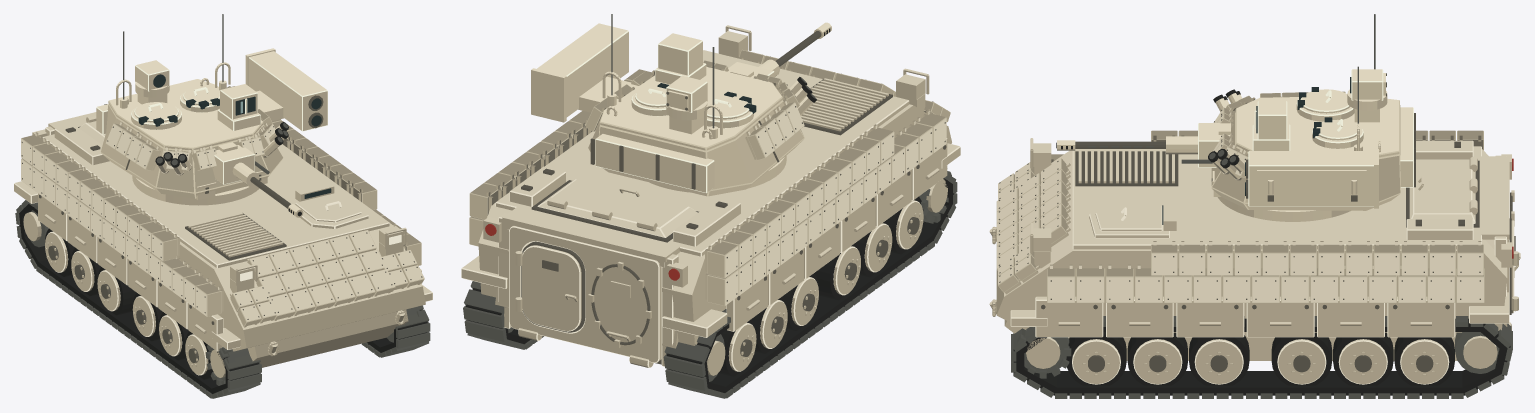
The model's file is m2a3_bradley_era.glb.
The picture shows the model from 3 angles, left to right: view 1: azimuth 30°, elevation 25°; view 2: azimuth 150°, elevation 25°; view 3: azimuth 270°, elevation 25°; orthographic projection. The views are drawn at different scales.
Parts seen in each view (by area): view 1: Deck rim, Main hull sloped glacis, Faceted turret armor, Turret roof, Twin TOW launcher, Lower armored tub, Continuous track -1, Driver hatch, Turret ring, Rear deck stowage box, Gun mantlet, Side skirt panel (+63 smaller); view 2: Deck rim, Ramp armor, Turret roof, Faceted turret armor, Personnel door, Rear roof hatch, Main hull sloped glacis, Twin TOW launcher, Continuous track -1, Turret rear basket, Rear roof closure, TOW rear cap (+61 smaller); view 3: Deck rim, Continuous track 1, Main hull sloped glacis, Turret roof, Rear roof hatch, TOW launcher side cover, Twin TOW launcher, Faceted turret armor, Rear roof closure, Engine grille recess, Side skirt panel.009, Side skirt panel.008 (+65 smaller).
Boxes of the visible parts, x1,y1,x2,y2 form: Deck rim: (42, 134, 389, 268); Main hull sloped glacis: (178, 223, 425, 351); Faceted turret armor: (101, 104, 283, 198); Turret roof: (108, 79, 263, 150); Twin TOW launcher: (248, 51, 327, 131); Lower armored tub: (247, 309, 408, 367); Continuous track -1: (19, 204, 259, 393); Driver hatch: (295, 193, 361, 222); Turret ring: (132, 175, 259, 205); Rear deck stowage box: (54, 124, 109, 165); Gun mantlet: (212, 145, 254, 184); Side skirt panel: (188, 303, 223, 351); Deck rim: (495, 50, 909, 256); Ramp armor: (509, 226, 661, 362); Turret roof: (599, 66, 782, 150); Faceted turret armor: (588, 100, 804, 196); Personnel door: (521, 245, 581, 331); Rear roof hatch: (537, 179, 697, 237); Main hull sloped glacis: (478, 104, 951, 345); Twin TOW launcher: (537, 23, 628, 117); Continuous track -1: (666, 178, 953, 392); Turret rear basket: (595, 134, 714, 193); Rear roof closure: (502, 206, 680, 262); TOW rear cap: (531, 68, 566, 122); Deck rim: (1072, 146, 1481, 249); Continuous track 1: (1013, 318, 1510, 395); Main hull sloped glacis: (996, 149, 1507, 332); Turret roof: (1235, 97, 1399, 157); Rear roof hatch: (1409, 159, 1475, 223); TOW launcher side cover: (1257, 170, 1366, 203); Twin TOW launcher: (1248, 151, 1373, 206); Faceted turret armor: (1211, 105, 1400, 210); Rear roof closure: (1474, 156, 1509, 239); Engine grille recess: (1075, 151, 1178, 186); Side skirt panel.009: (1246, 296, 1314, 337); Side skirt panel.008: (1176, 296, 1244, 337).
Bounding box in the file's own units: 3.55 × 4.02 × 6.49.
